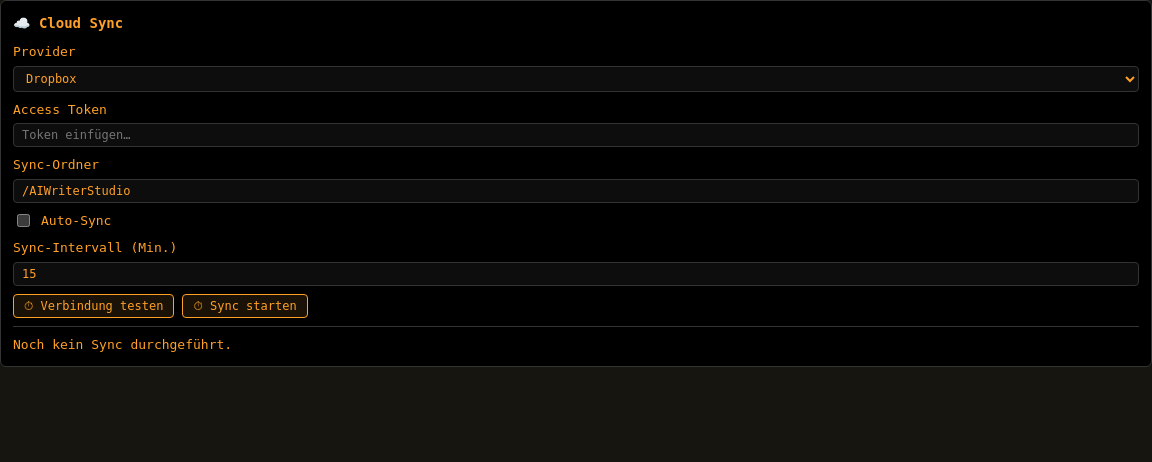
Test: CloudSyncPanel › Sync-Button zeigt Upload/Download/Conflicts-Status
The width and height of the screenshot is (1152, 462).
Click the button with test id "cloudsync-sync": (245, 306) [182,294,308,318]
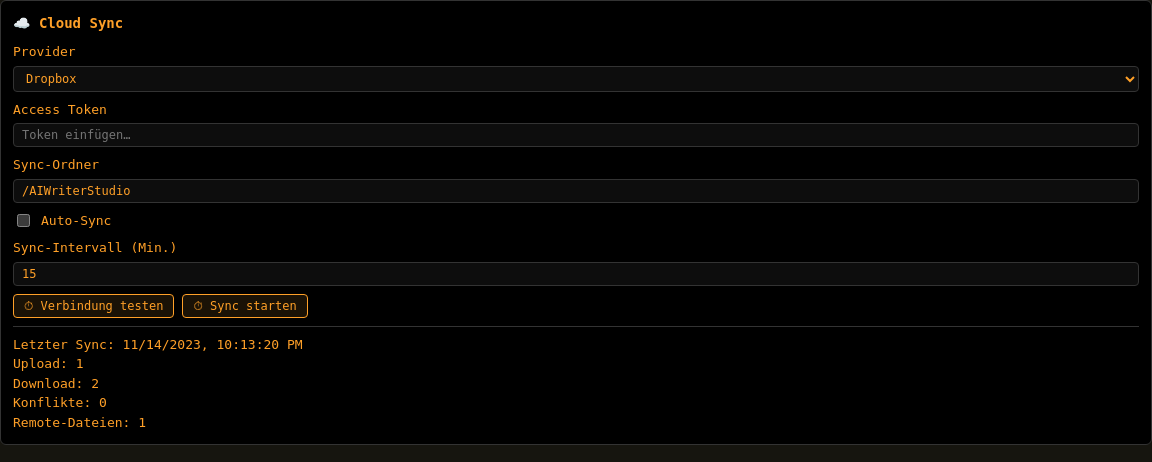
Result: the text with test id "cloudsync-uploaded" shows "1" at [76,356,83,371]
Result: the text with test id "cloudsync-downloaded" shows "2" at [91,376,99,390]
Result: the text with test id "cloudsync-conflicts" shows "0" at [99,395,107,410]
